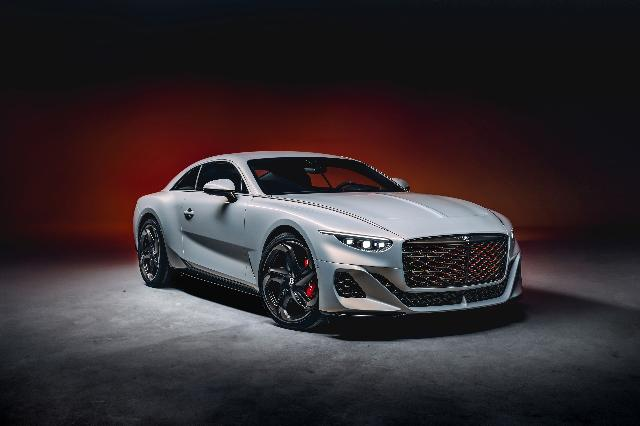bentley: (132, 150, 524, 332)
